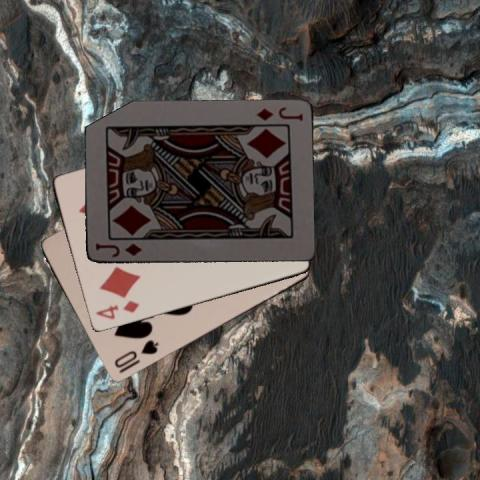10s: (111, 337, 159, 370)
4d: (92, 298, 140, 322)
Jd: (92, 240, 143, 259), (253, 104, 304, 123)
